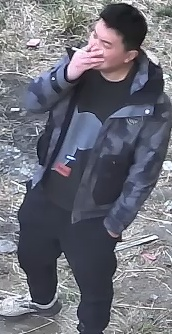smoking: (43, 3, 145, 95)
